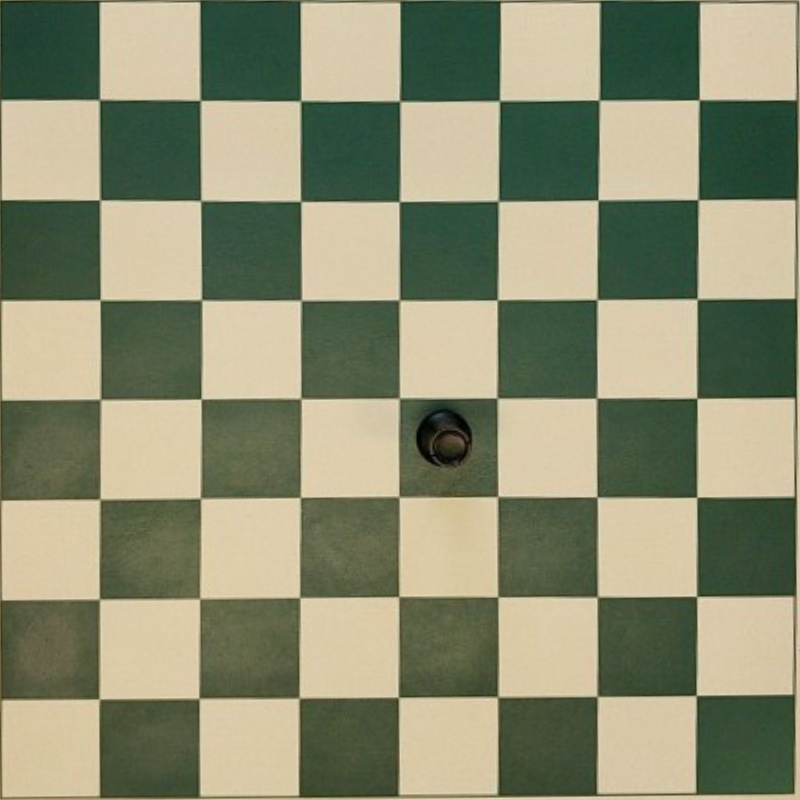black-rook: (417, 408, 473, 467)
